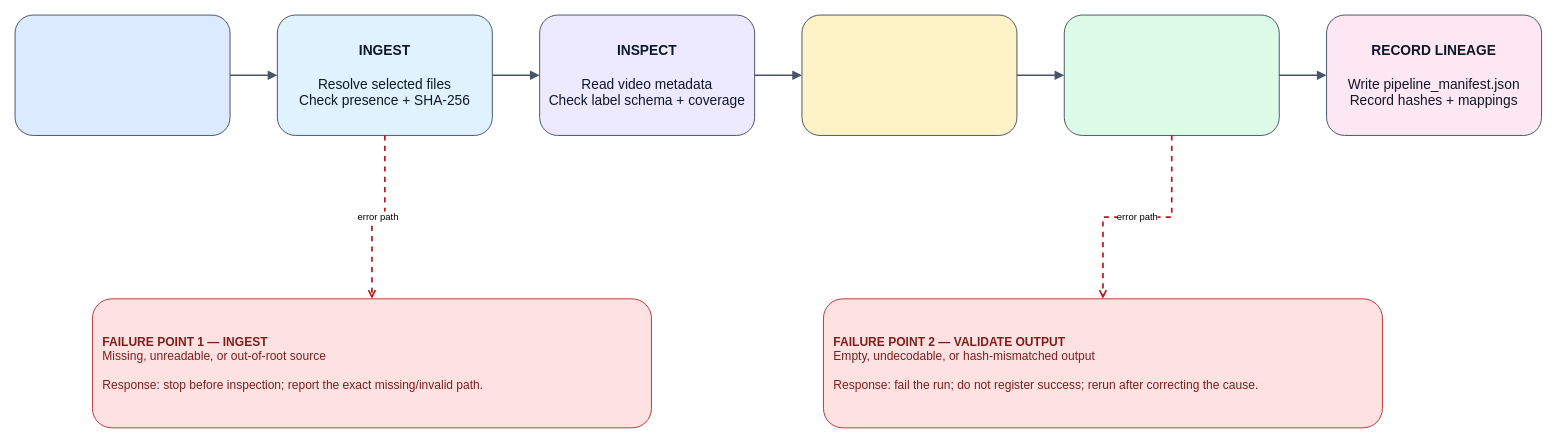
This 1557x443 diagram has some shape labels left out. Here are the shapes that lost their labels. From the top down, the box of each, then its label:
(14, 14, 230, 135): SOURCE evo_10.mp4 + evo_11.mp4 video-ground-truths.csv
(801, 14, 1017, 135): PREPARE / TRANSFORM Sample every 2 s Resize ≤640 px; JPEG q90
(1063, 14, 1279, 135): VALIDATE OUTPUT Decode samples + inspect ZIPs Check non-empty outputs + hashes
